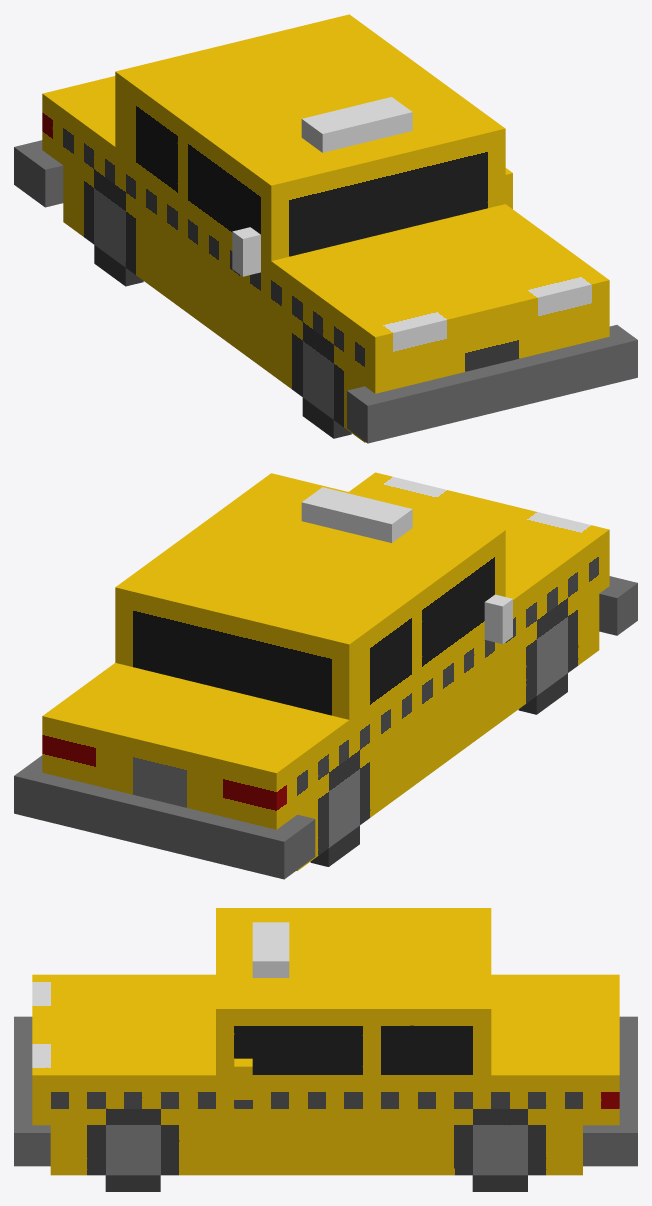
Rendered from veh_cab1.dae.
The picture shows the model from 3 angles, top to bottom: view 1: azimuth 30°, elevation 25°; view 2: azimuth 150°, elevation 25°; view 3: azimuth 270°, elevation 25°; orthographic projection. The views are drawn at different scales.
Visible parts, largest first — view 1: veh_cab1; view 2: veh_cab1; view 3: veh_cab1.
Boxes of the visible parts, x1=… form: veh_cab1: x1=14, y1=14, x2=637, y2=443; veh_cab1: x1=14, y1=472, x2=637, y2=879; veh_cab1: x1=14, y1=908, x2=637, y2=1191.
Size of the model in its own units: 1.5 by 3.4 by 1.2.
Materials: 1 (1 with a texture image).
